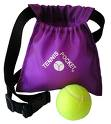tennis ball: (55, 84, 93, 121)
